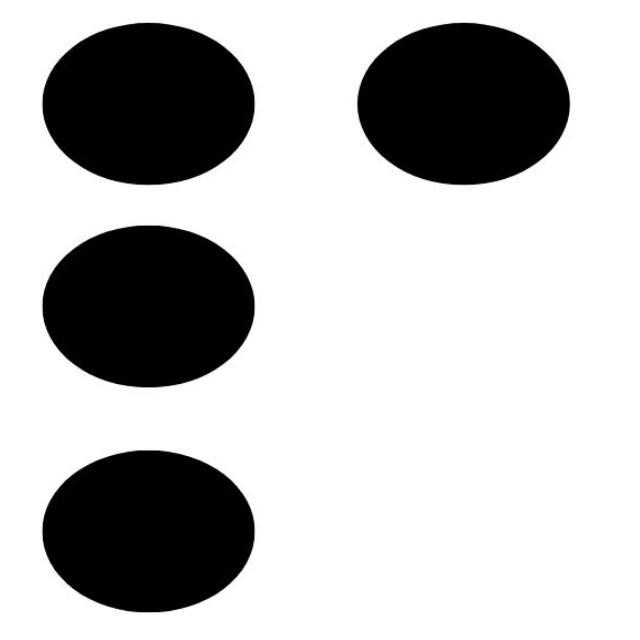letter_p: (39, 22, 569, 614)
